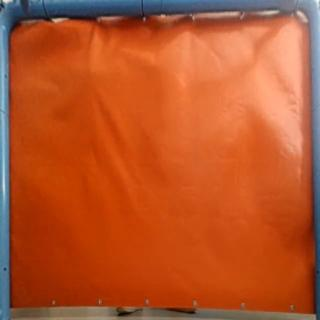Hit-hRxx: (82, 64, 98, 78)
